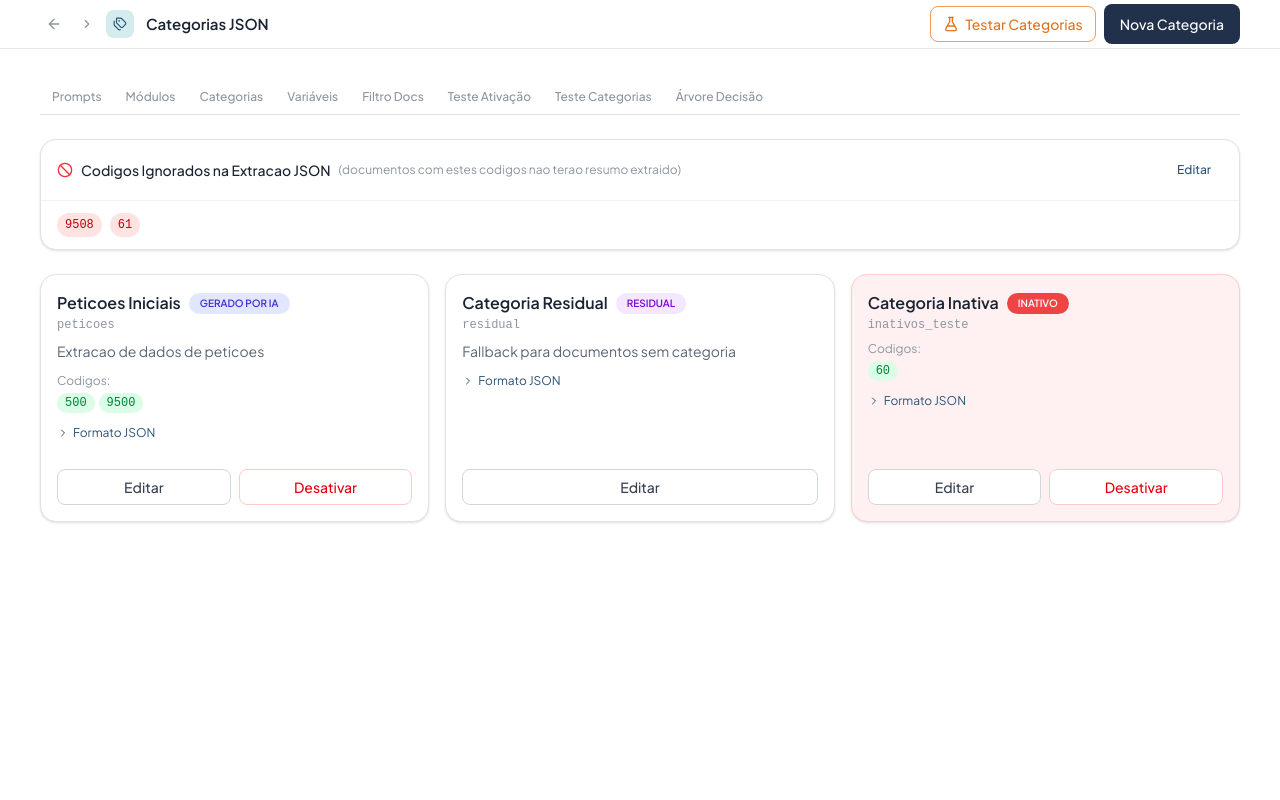
Test: CategoriasJsonPage › deve alternar source_type entre codigos e fonte especial
Expected: the heading "Peticoes Iniciais" is shown, [57,291,181,315]
Abrir editor
Click the button with test id "btn-nova-categoria".
click(1172, 24)  # box [1104,4,1240,44]
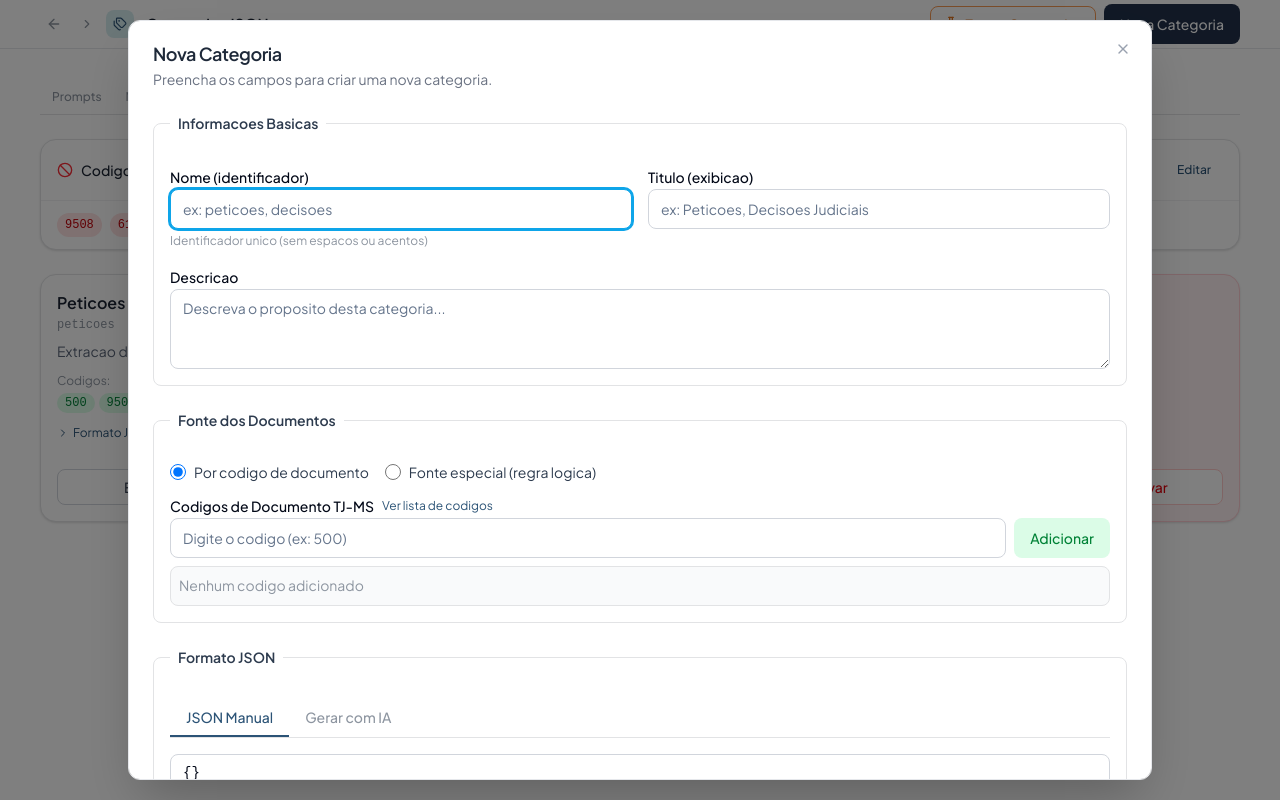
Expected: the dialog with test id "editor-dialog" is shown
Expected: the radio button with test id "radio-source-code" is checked, [170,464,186,480]
Expected: the element with test id "secao-codigos-documento" is shown, [170,498,1110,606]
Mudar para special
Click the radio button with test id "radio-source-special".
click(393, 472)  # box [385,464,401,480]
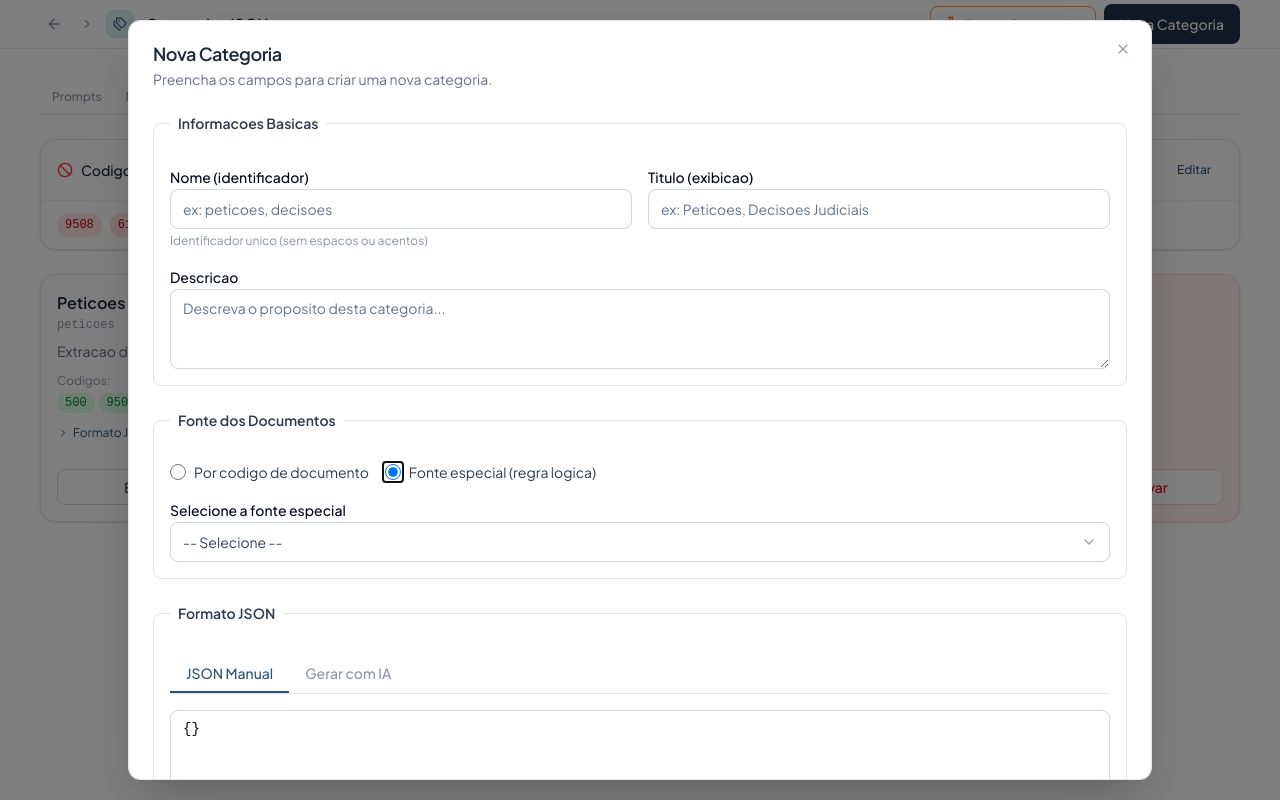
Expected: the element with test id "secao-codigos-documento" is gone
Expected: the element with test id "secao-fonte-especial" is shown, [170,498,1110,562]
